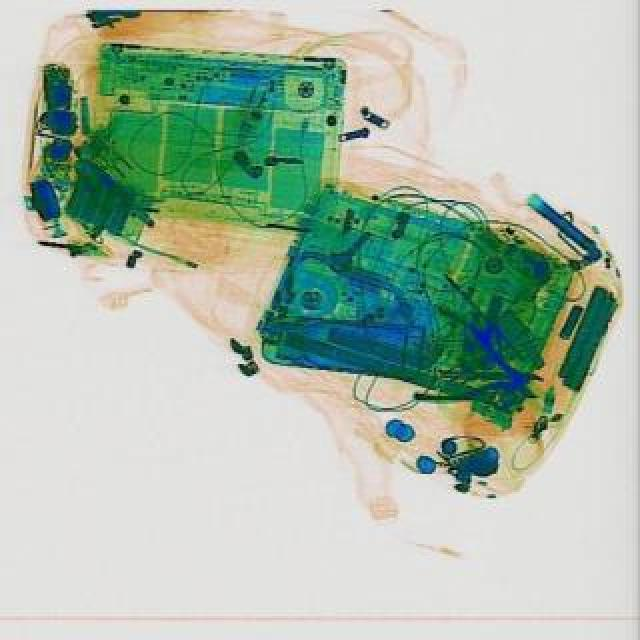wrench: (408, 308, 562, 436)
